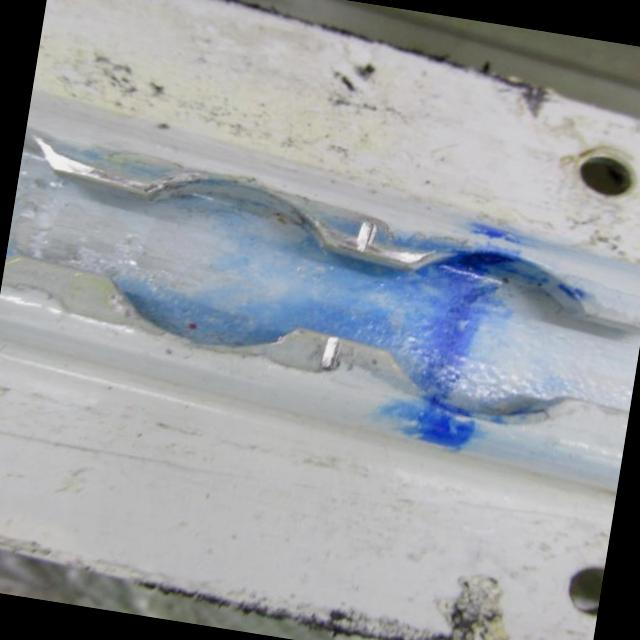Missing Fastener: (536, 131, 640, 210), (549, 538, 608, 622)
